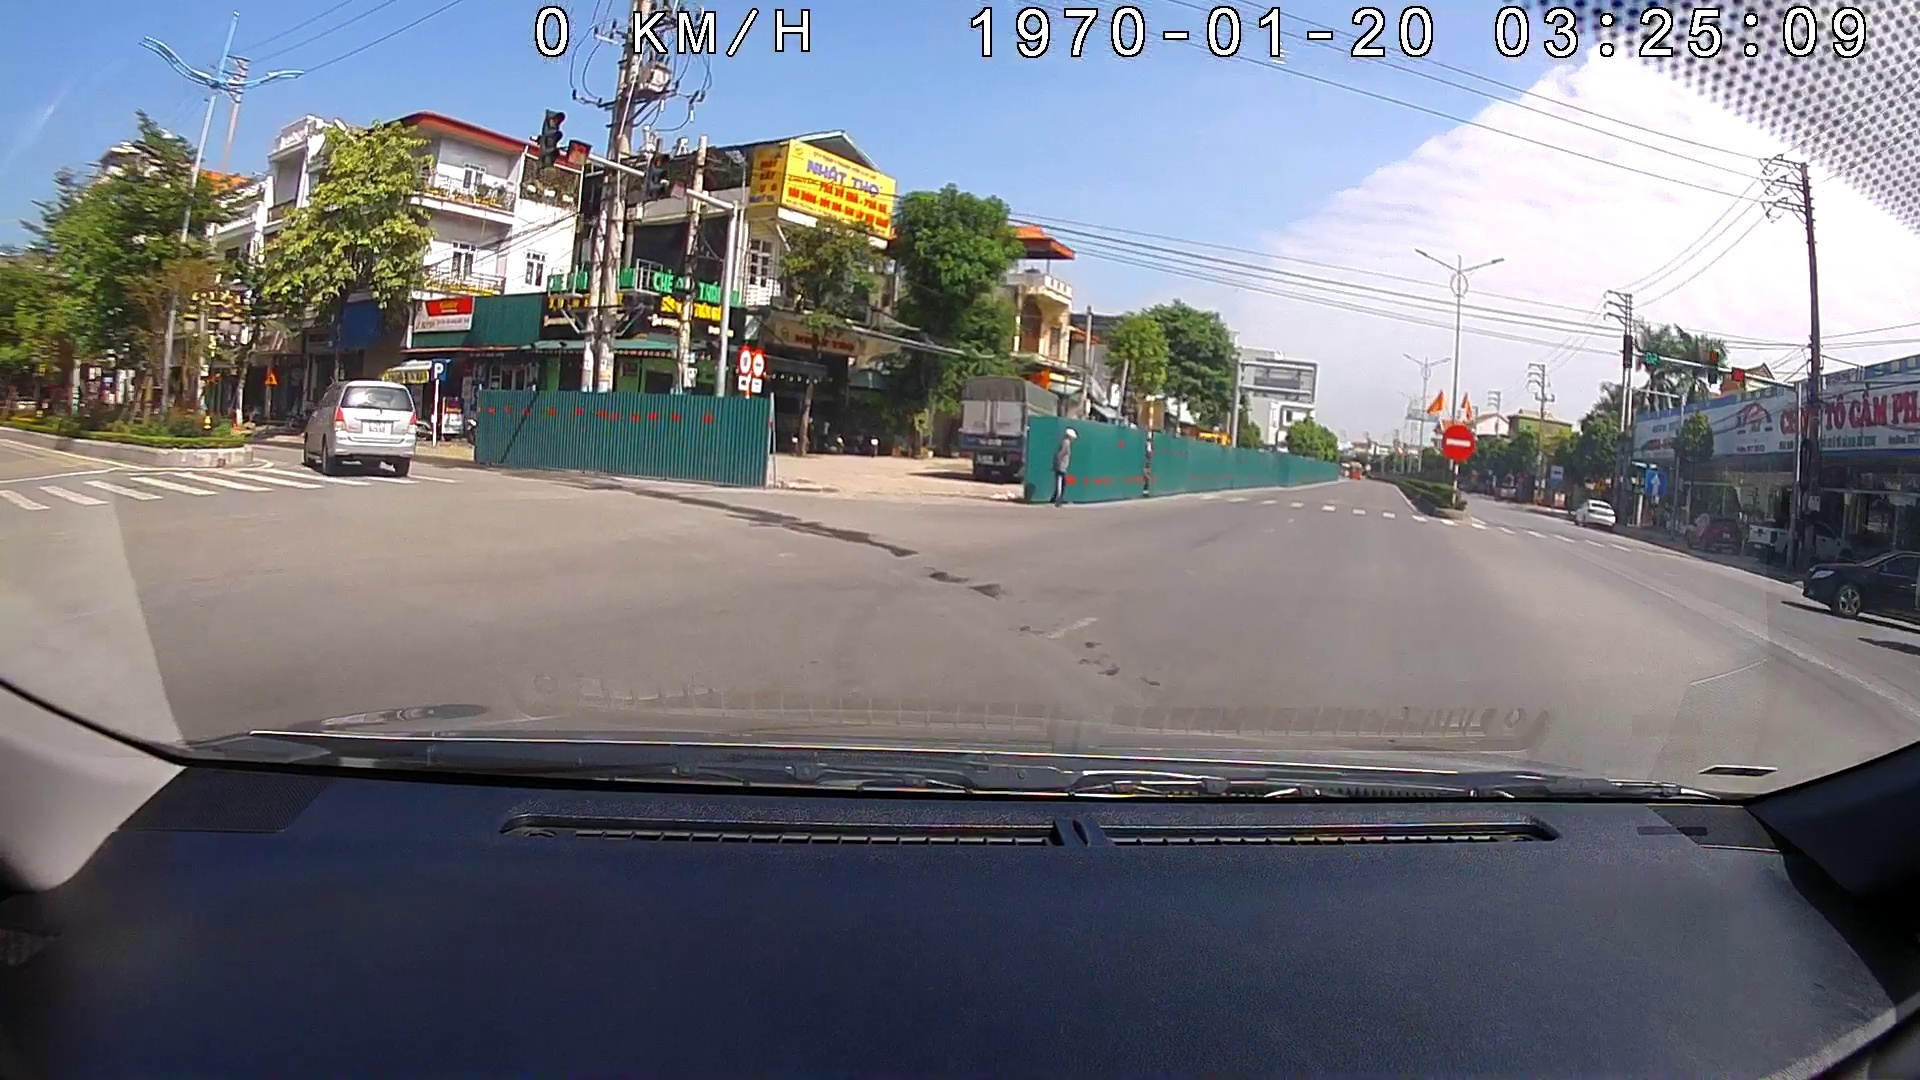Bien khac: (1644, 468, 1667, 497), (1547, 463, 1565, 487), (738, 345, 752, 373), (433, 357, 446, 381), (756, 349, 766, 376)
Cam di nguoc chieu: (1437, 423, 1474, 464)
Giao nhau voi duong khong uu tien: (1593, 472, 1607, 491), (262, 367, 277, 385)
